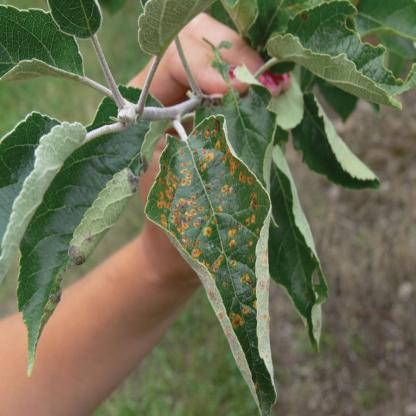Apple rust leaf: (141, 117, 298, 415)
